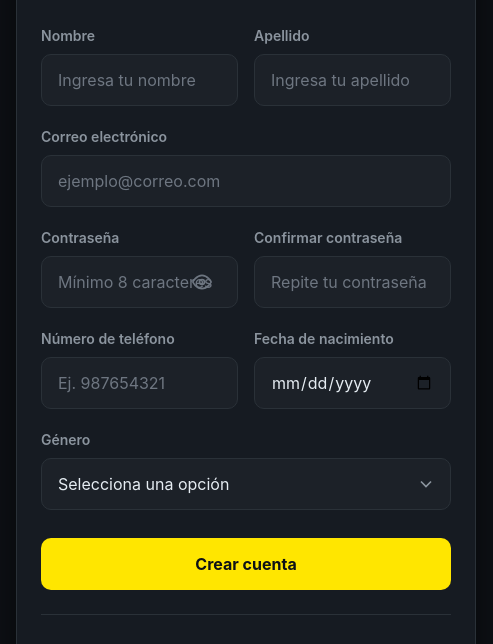
Register › Error clearing › clears global error when user types
(page scrolled)
Click the button "Crear cuenta": (246, 564) [41,538,451,590]
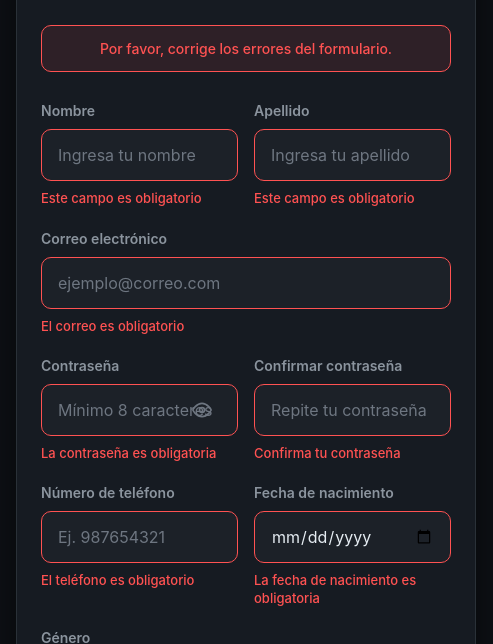
Check: the text "Por favor, corrige los errores del formulario." is shown, box [41,25,451,72]
In the field labelled "Nombre": (140, 155) [41,129,238,181], type "Juan"
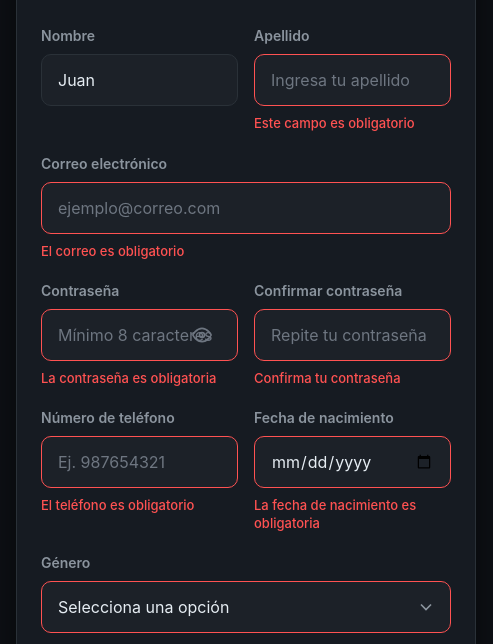
Check: the text "Por favor, corrige los errores del formulario." is gone
